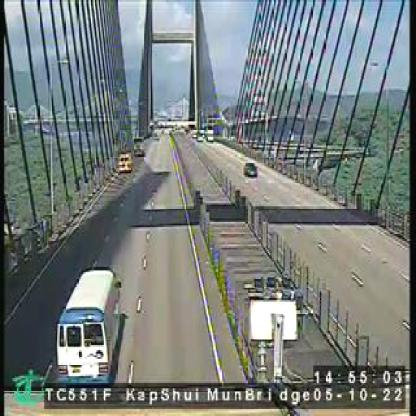Bus: (55, 267, 118, 383), (117, 152, 129, 172)
Car: (243, 161, 257, 175)
